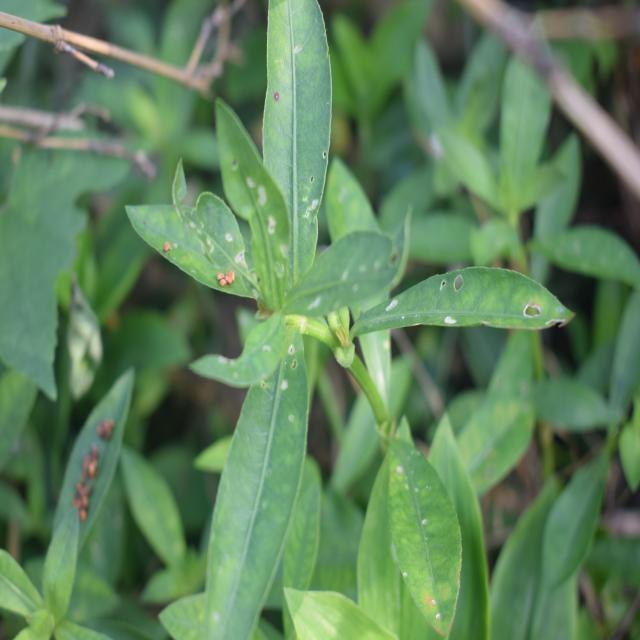Alligatorweed: (150, 51, 464, 589)
